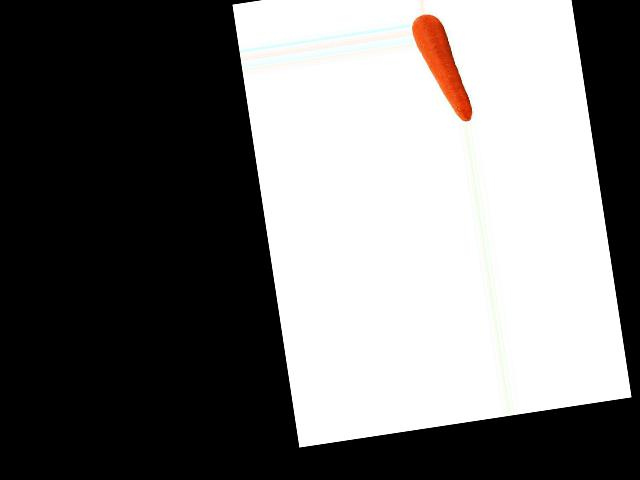carrot: (413, 27, 478, 129)
